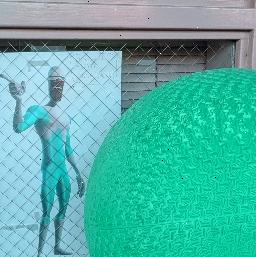algae: (79, 70, 256, 257)
